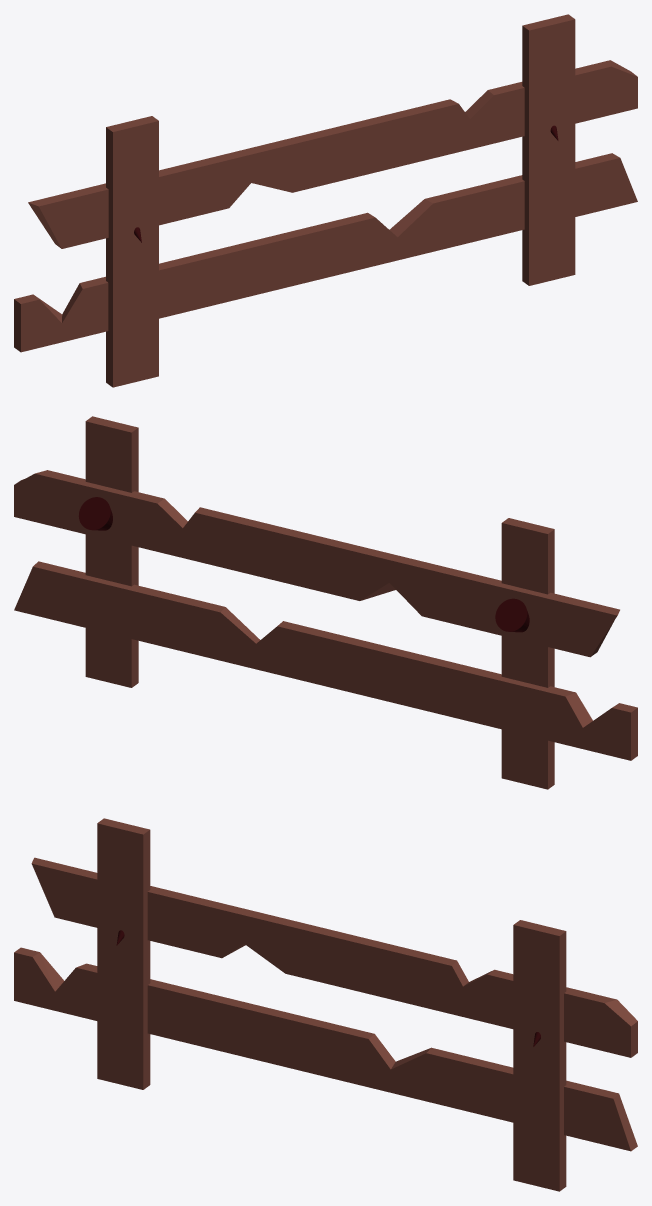
Rendered from fence.fbx.
The picture shows the model from 3 angles, top to bottom: view 1: azimuth 30°, elevation 25°; view 2: azimuth 150°, elevation 25°; view 3: azimuth 330°, elevation 25°; orthographic projection.
Parts seen in each view (by area): view 1: Cube.040, Cube.039, Cube.038, Cube.037; view 2: Cube.040, Cube.039, Cube.037, Cube.038, Cone.001, Cone; view 3: Cube.040, Cube.039, Cube.037, Cube.038.
Part boxes in pixels (x1,y1,x2,y2): Cube.040: [14, 153, 637, 352]; Cube.039: [28, 60, 637, 248]; Cube.038: [522, 14, 575, 285]; Cube.037: [106, 116, 158, 387]; Cube.040: [14, 561, 637, 760]; Cube.039: [14, 470, 619, 657]; Cube.037: [501, 518, 554, 789]; Cube.038: [85, 416, 138, 687]; Cone.001: [495, 598, 529, 632]; Cone: [78, 497, 112, 530]; Cube.040: [14, 947, 637, 1151]; Cube.039: [31, 857, 637, 1057]; Cube.037: [97, 818, 150, 1089]; Cube.038: [513, 920, 566, 1191].
Size of the model in its own units: 10814 by 4278 by 897.
